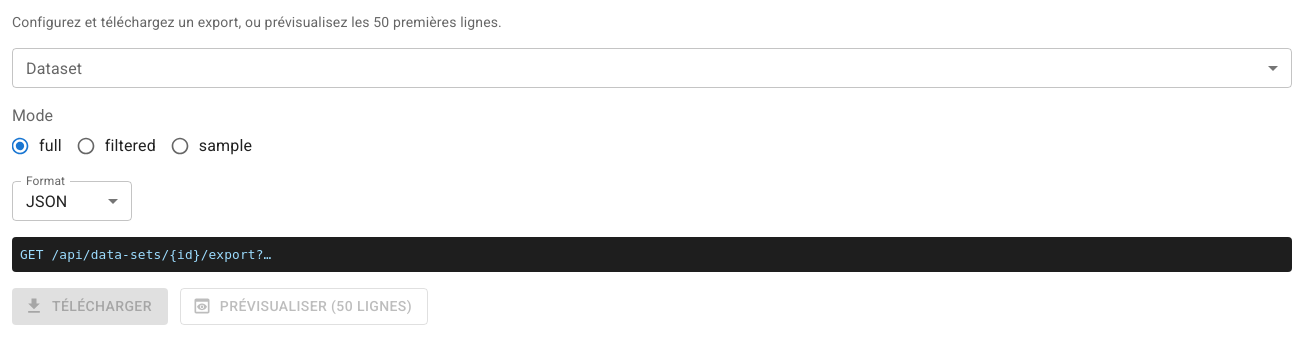
Test: ExtractionTab › shows rowIds field when mode=filtered
The width and height of the screenshot is (1292, 342).
Click the radio button labelled "filtered". click: x=116, y=146
box: [76,136,156,156]
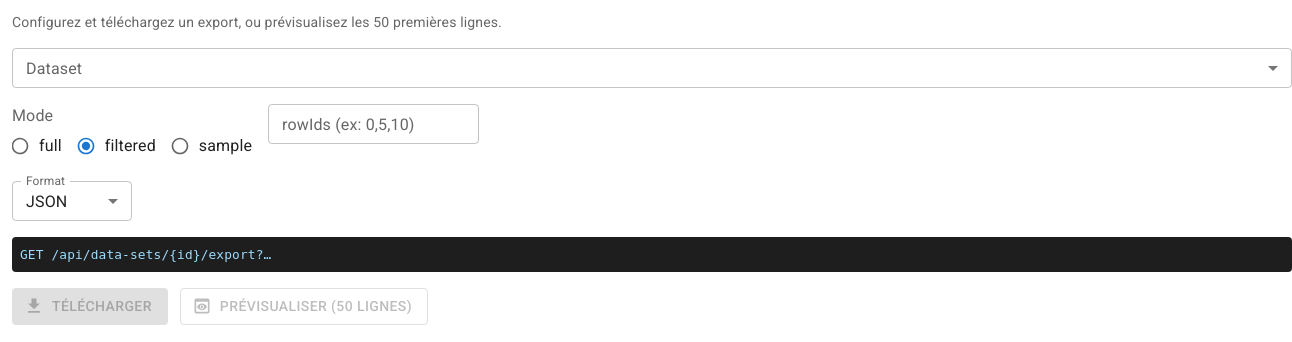
Now the field labelled "rowIds (ex: 0,5,10)" is shown, box [268,104,479,144]
